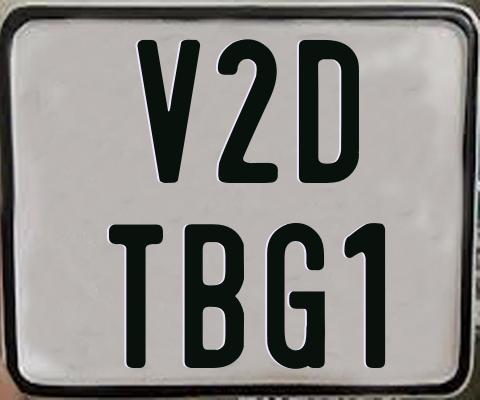1: (344, 220, 386, 366)
2: (217, 37, 277, 184)
B: (182, 221, 247, 368)
D: (297, 39, 357, 186)
G: (265, 222, 324, 369)
T: (108, 222, 163, 372)
V: (136, 37, 203, 186)
